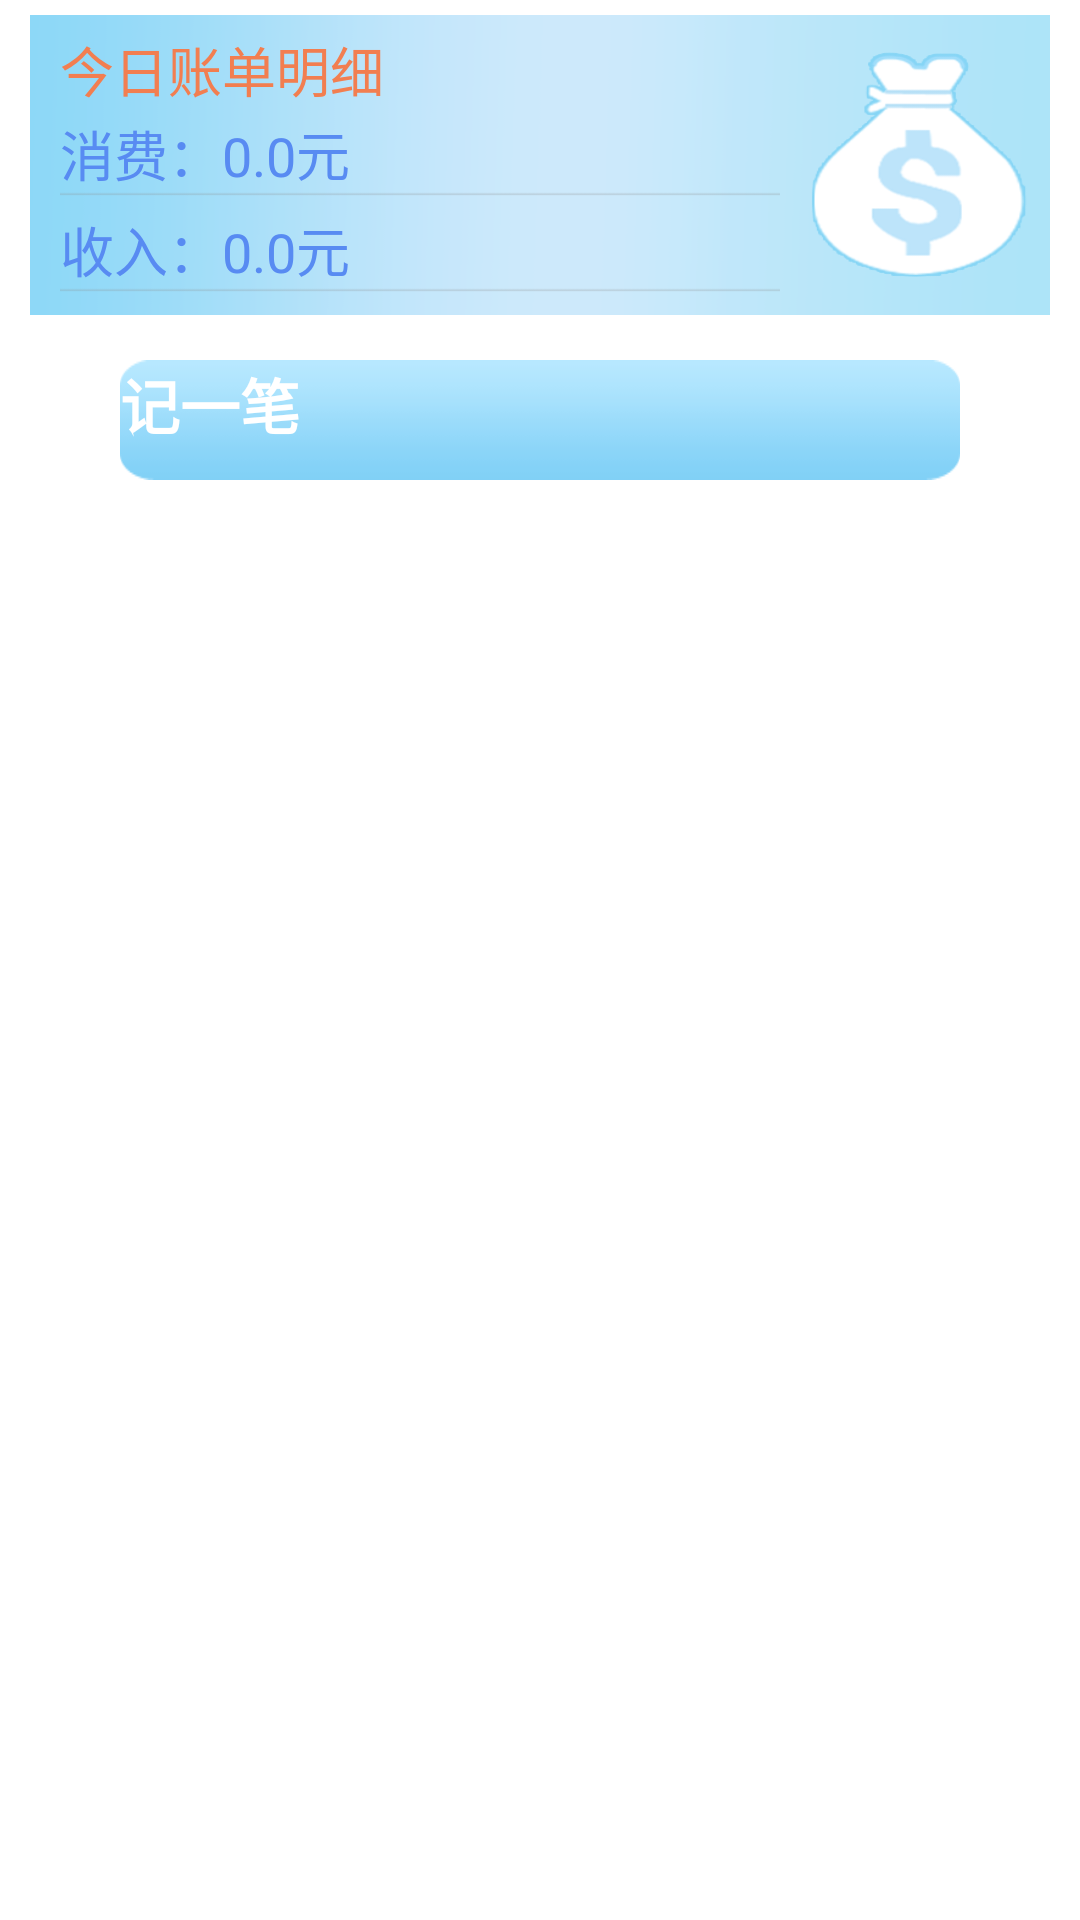

Screen size 1080x1920. Icon name, then its box in pixels as [x1, y1, x2, y2]:
acc top money: [812, 53, 1025, 276]
